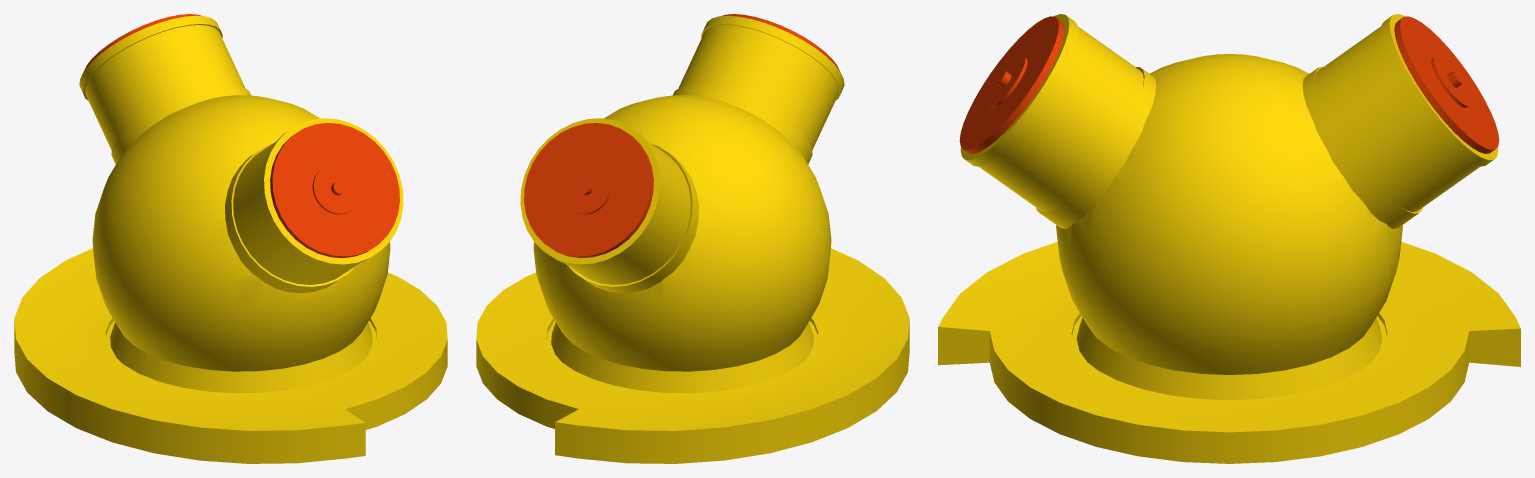
File: Siamase Connection Fix.fbx
3 renders of one model, left to right at view 1: azimuth 30°, elevation 25°; view 2: azimuth 150°, elevation 25°; view 3: azimuth 270°, elevation 25°, orthographic. The views are drawn at different scales.
Parts seen in each view (by area): view 1: Circle; view 2: Circle; view 3: Circle.
Boxes of the visible parts, bbox=[...] form: Circle: bbox=[14, 14, 447, 463]; Circle: bbox=[476, 14, 909, 463]; Circle: bbox=[938, 14, 1520, 463].
Bounding box in the file's own units: 76.26 × 57.49 × 88.85.
